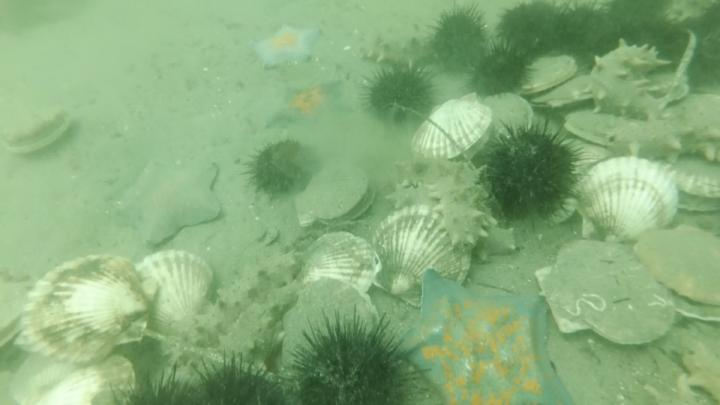echinus: (290, 305, 426, 405), (481, 117, 587, 223), (182, 352, 288, 405), (359, 63, 437, 127), (423, 1, 492, 73), (245, 139, 316, 202), (105, 362, 208, 405), (495, 1, 566, 55), (467, 42, 535, 93), (555, 2, 612, 61), (693, 9, 720, 86), (608, 1, 672, 29)
holothurian: (166, 248, 303, 371), (386, 179, 520, 266), (199, 280, 308, 376), (583, 37, 672, 122), (426, 162, 493, 250), (605, 112, 720, 162), (359, 38, 434, 73), (682, 339, 720, 405), (665, 1, 716, 26)
scallop: (18, 252, 161, 366), (533, 237, 679, 347), (372, 207, 474, 312), (281, 276, 384, 371), (574, 157, 681, 244), (631, 223, 720, 325), (131, 249, 217, 347), (9, 351, 139, 405), (291, 162, 379, 232), (299, 230, 384, 300), (410, 98, 494, 160), (1, 102, 76, 159), (671, 161, 720, 214), (564, 113, 632, 150), (530, 74, 594, 112), (481, 95, 536, 139), (523, 56, 580, 94), (646, 71, 693, 108)
starfish: (388, 269, 577, 405), (113, 155, 225, 250), (266, 80, 353, 131), (252, 21, 325, 72)
